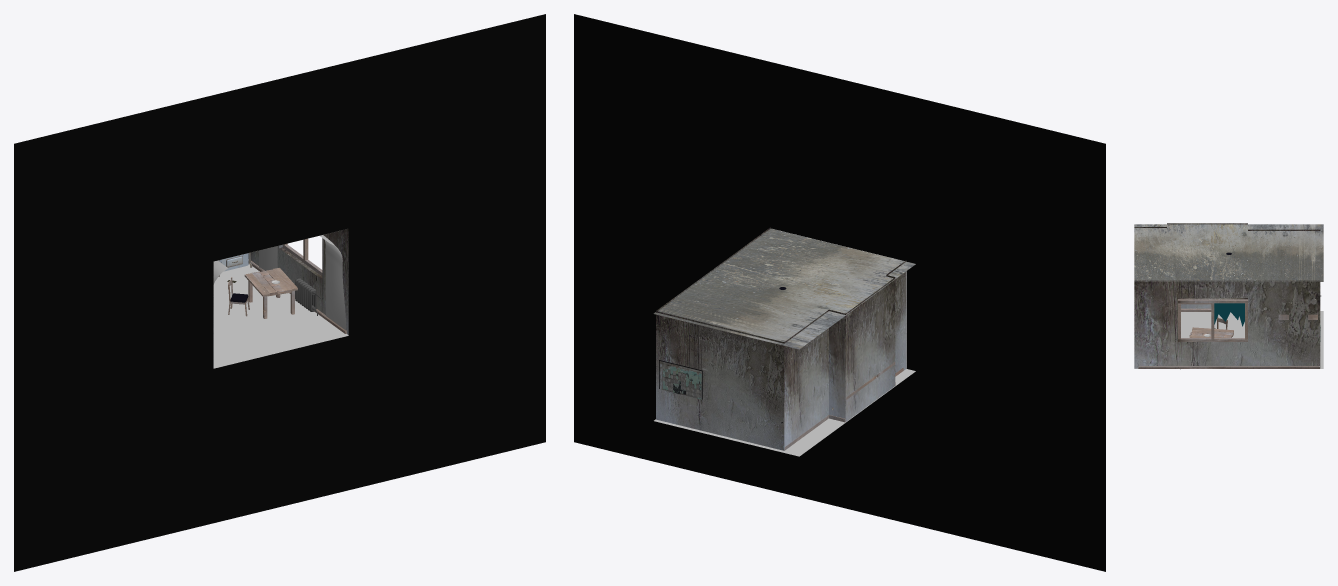
Rendered from кухня.fbx.
3 views of the same model, side by side, from view 1: azimuth 30°, elevation 25°; view 2: azimuth 150°, elevation 25°; view 3: azimuth 270°, elevation 25° (orthographic). The views are drawn at different scales.
Visible parts, largest first — view 1: Plane007, Plane003, Object017, Box005, Plane001; view 2: Plane007, Object017, Plane006, Plane003, Box030; view 3: Object017, Plane006, Box005, Plane003, Box057.
Part boxes in pixels (x1,y1,x2,y2): Plane007: [14, 14, 545, 571]; Plane003: [213, 264, 348, 368]; Object017: [213, 228, 348, 368]; Box005: [228, 238, 346, 333]; Plane001: [213, 235, 346, 330]; Plane007: [574, 14, 1105, 571]; Object017: [656, 227, 906, 450]; Plane006: [653, 228, 915, 349]; Plane003: [654, 369, 915, 456]; Box030: [659, 361, 701, 399]; Object017: [1134, 223, 1320, 368]; Plane006: [1134, 224, 1323, 281]; Box005: [1138, 299, 1319, 368]; Plane003: [1134, 311, 1323, 368]; Box057: [1214, 303, 1244, 326].
Size of the model in its own units: 605 by 465 by 230.
